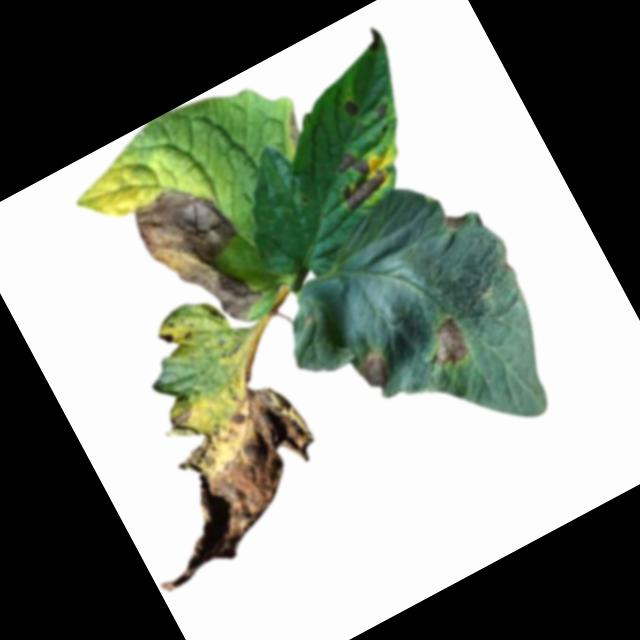Early_blight: (92, 364, 348, 599), (125, 168, 277, 347), (323, 141, 394, 215), (421, 313, 476, 372), (352, 345, 398, 394), (280, 110, 310, 149), (438, 206, 472, 237), (362, 25, 386, 54), (340, 97, 364, 121), (157, 329, 179, 353), (372, 102, 394, 123)
